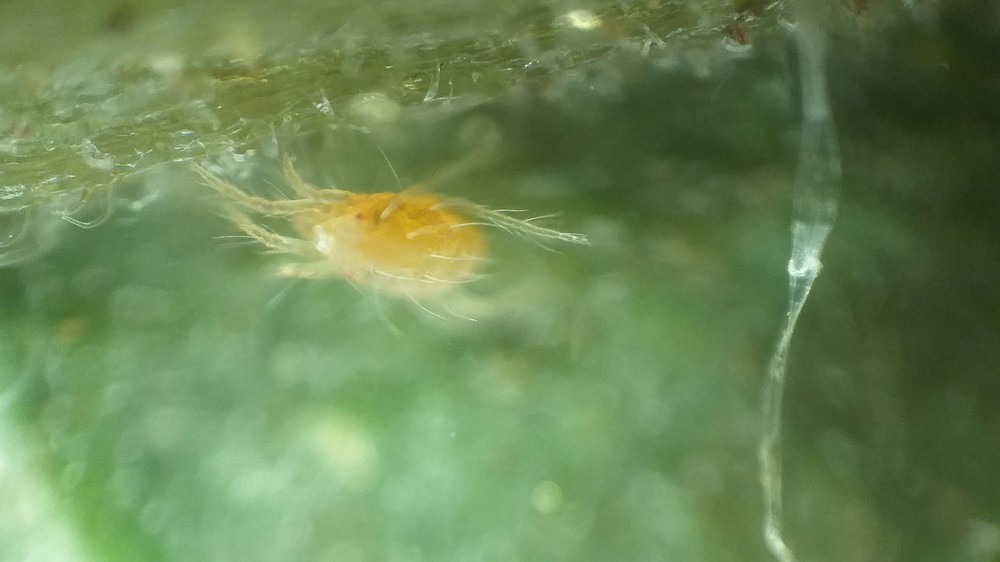Aracnido Rojo: (191, 129, 629, 363)
